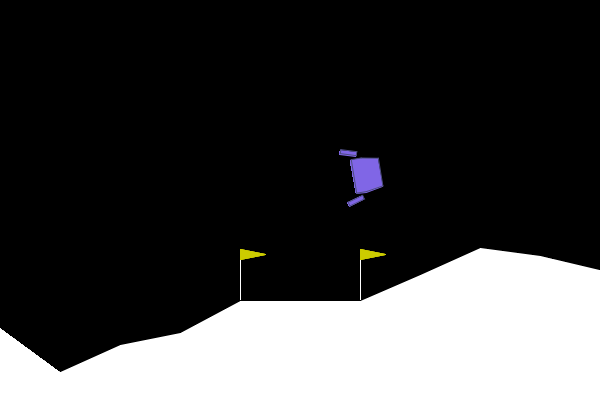lander: (338, 143, 387, 208)
